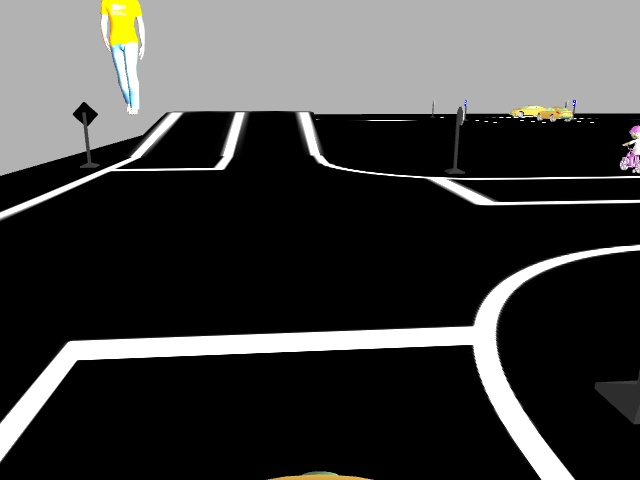Pedestrian: (618, 122, 639, 182)
